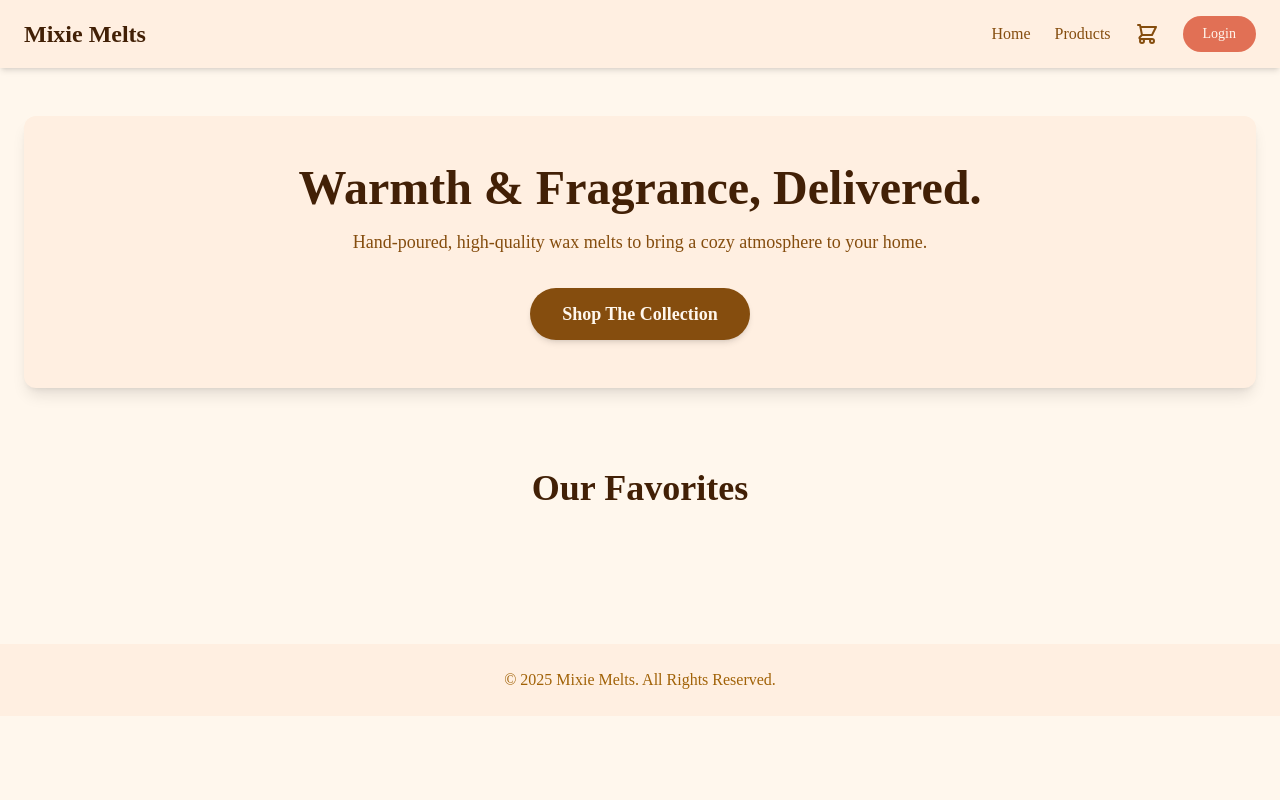
Test: Authentication and Authorization › should show an error on failed login
# Navigate to login page
Click the button "Login". click: (1219, 34)
box: [1182,16,1256,52]
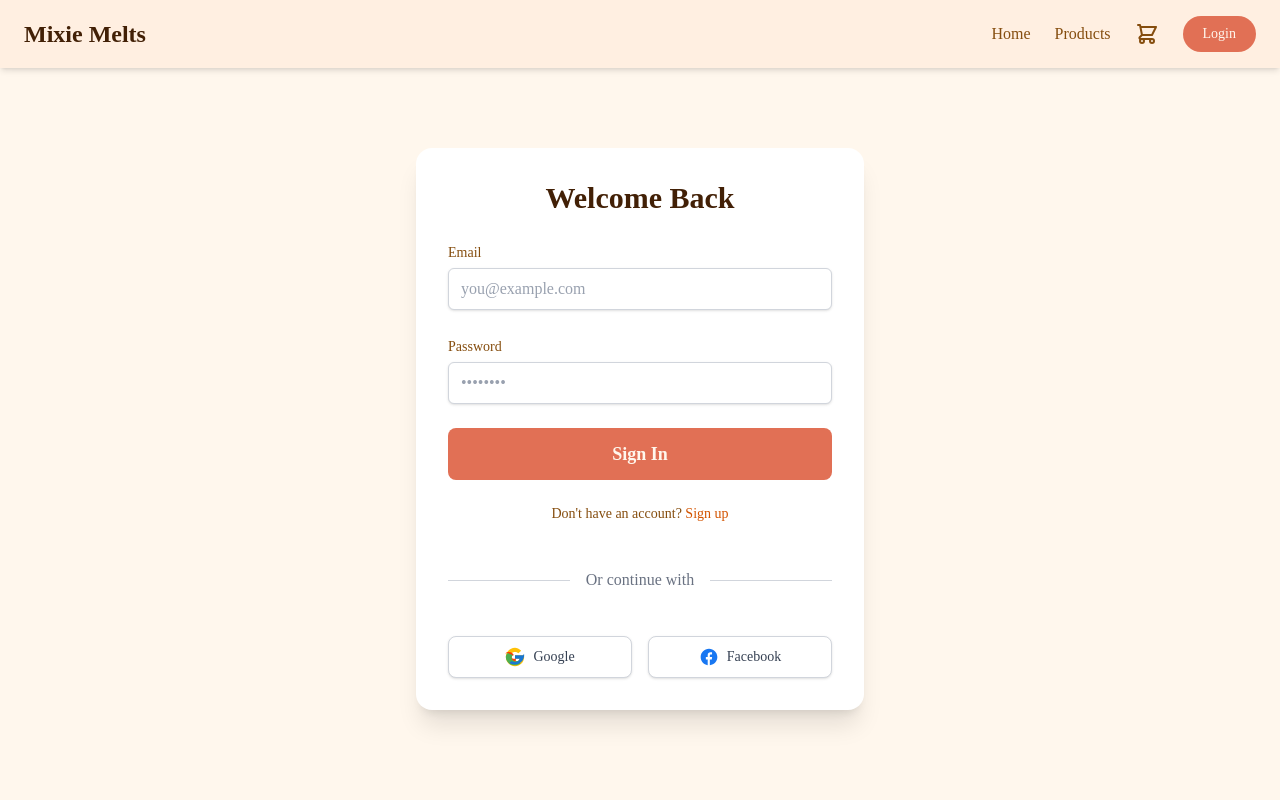
expect the field labelled "Email" is shown: met
# Fill and submit login form with wrong credentials
Type "wrong@test.com" into the field labelled "Email". click: (640, 289)
box: [448,268,832,310]
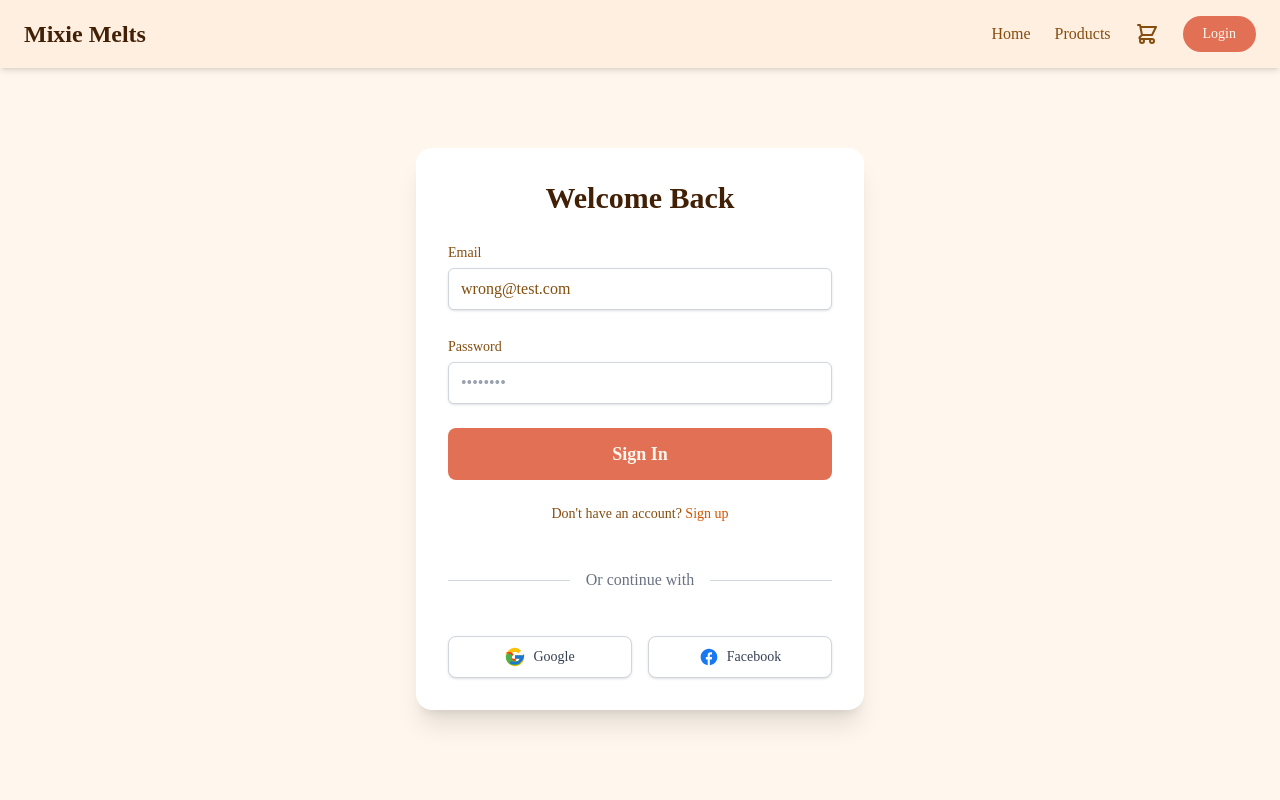
Type "wrongpassword" into the password field labelled "Password". click: (640, 383)
box: [448,362,832,404]
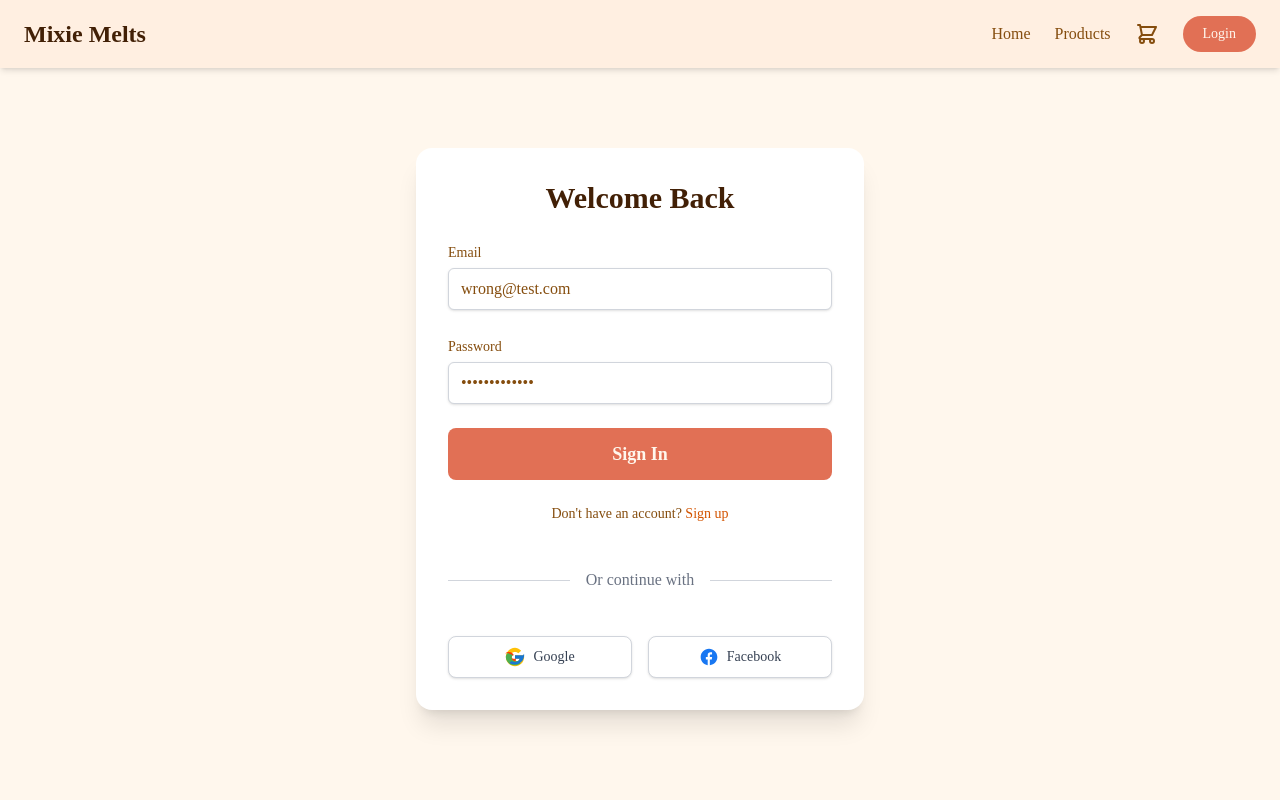
# Navigate to front page signed in
Click the button "Sign In". click: (640, 454)
box: [448,428,832,480]
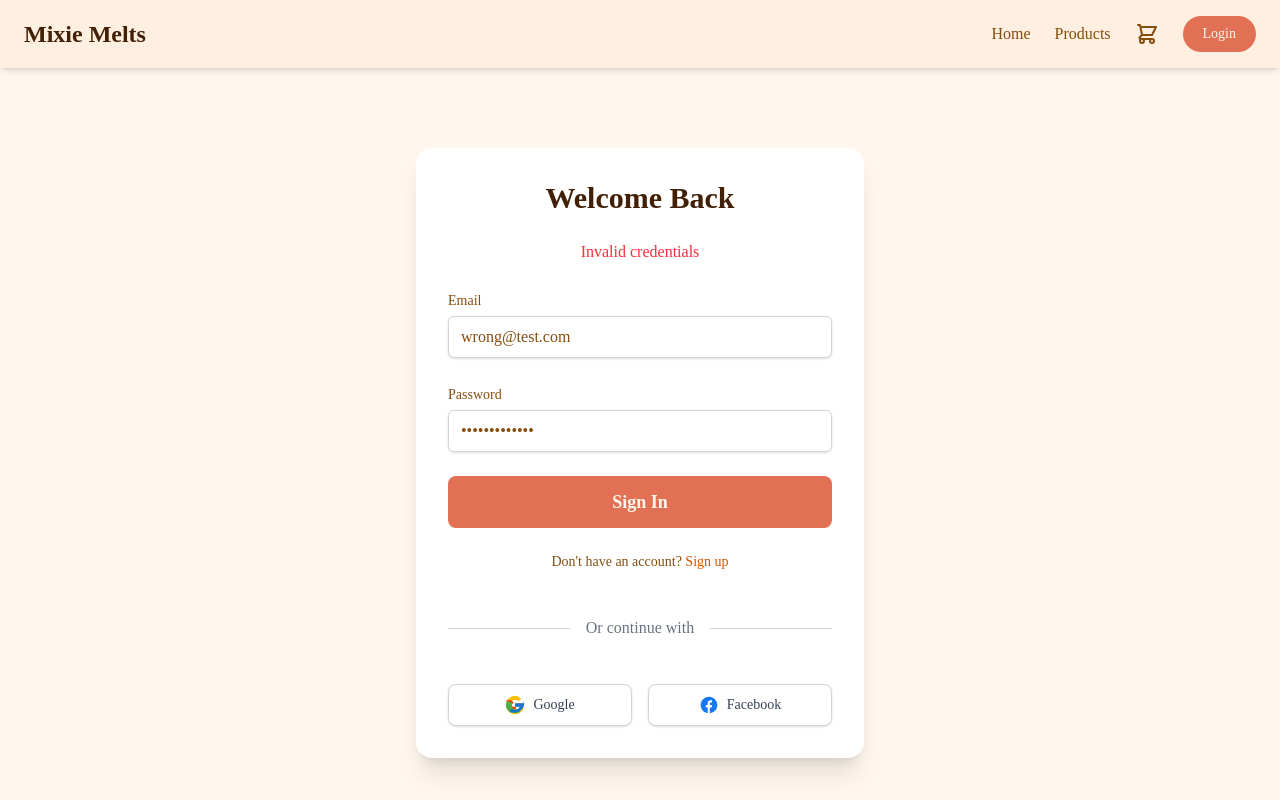
expect the text "Invalid credentials" is shown: met, box [581,243,699,260]
